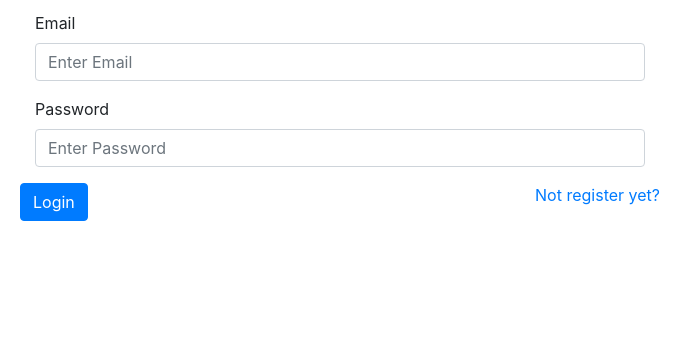
Test: Login component › login attempt › Should not login if user inputs are invalid
Type "user1111111" into the field labelled "Email" at coordinates (340, 62), box [35,43,645,81]
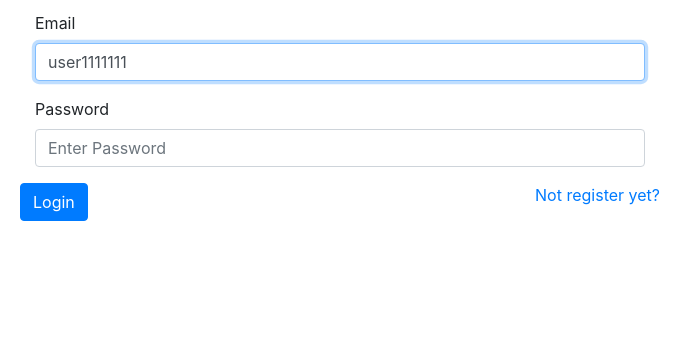
Type "12" into the password field labelled "Password" at coordinates (340, 148), box [35,129,645,167]
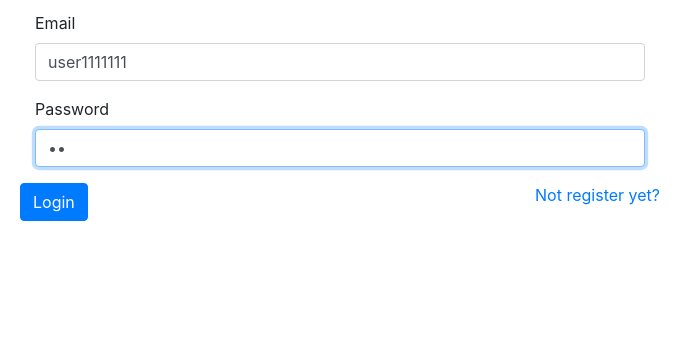
Click the button "Login" at coordinates (54, 202), box [20,183,88,221]
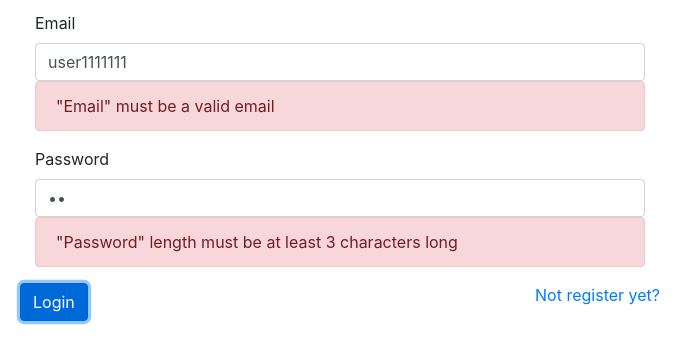
Expected: the message "\"Email\" must be a valid email" is shown, [35,81,645,131]
Expected: the message with test id "error-password" is shown, [35,217,645,267]
